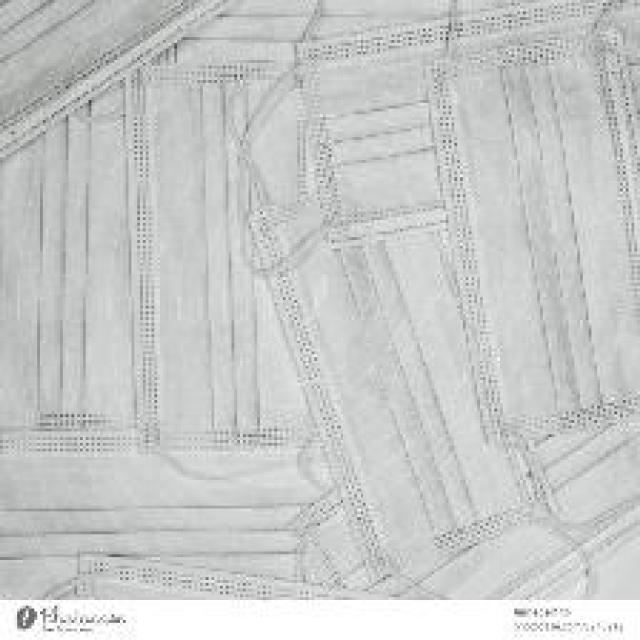Mask: (16, 7, 640, 590)
